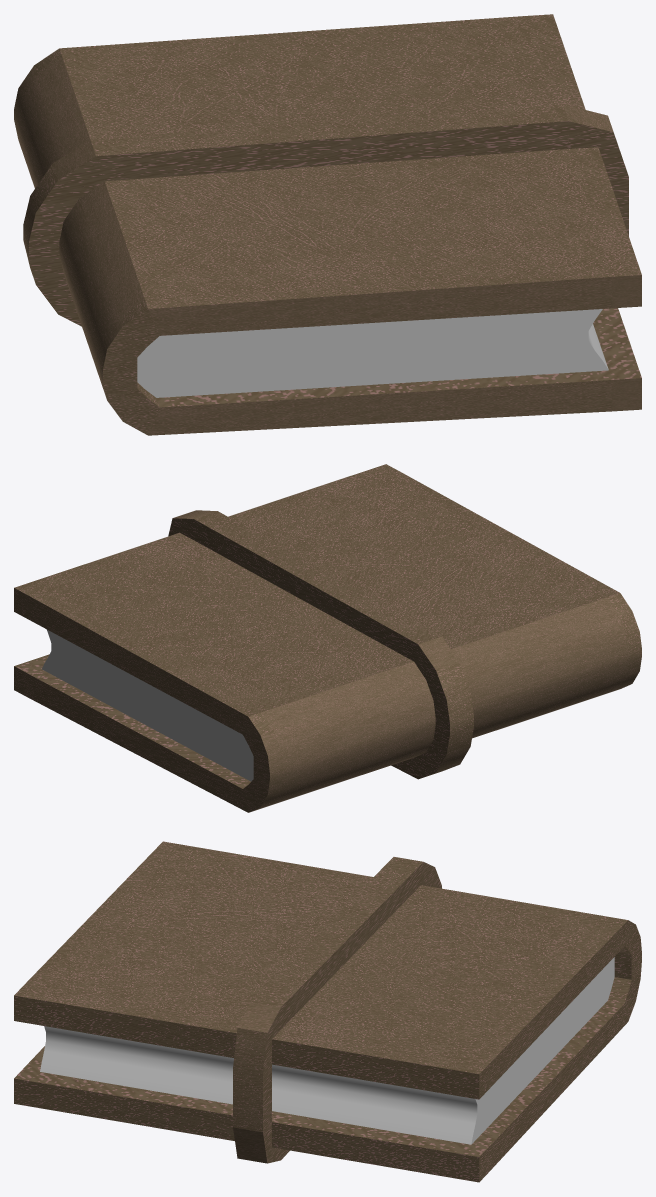
The model's file is journal_alistair.fbx.
3 renders of one model, top to bottom at view 1: azimuth 30°, elevation 25°; view 2: azimuth 150°, elevation 25°; view 3: azimuth 270°, elevation 25°, orthographic. The views are drawn at different scales.
Visible parts, largest first — view 1: journal1:pCube1; view 2: journal1:pCube1; view 3: journal1:pCube1.
Boxes of the visible parts, left/top/right/bottom form: journal1:pCube1: left=14, top=14, right=641, bottom=435; journal1:pCube1: left=14, top=464, right=641, bottom=812; journal1:pCube1: left=14, top=841, right=641, bottom=1182.
Size of the model in its own units: 0.3379 by 0.0963 by 0.358.
